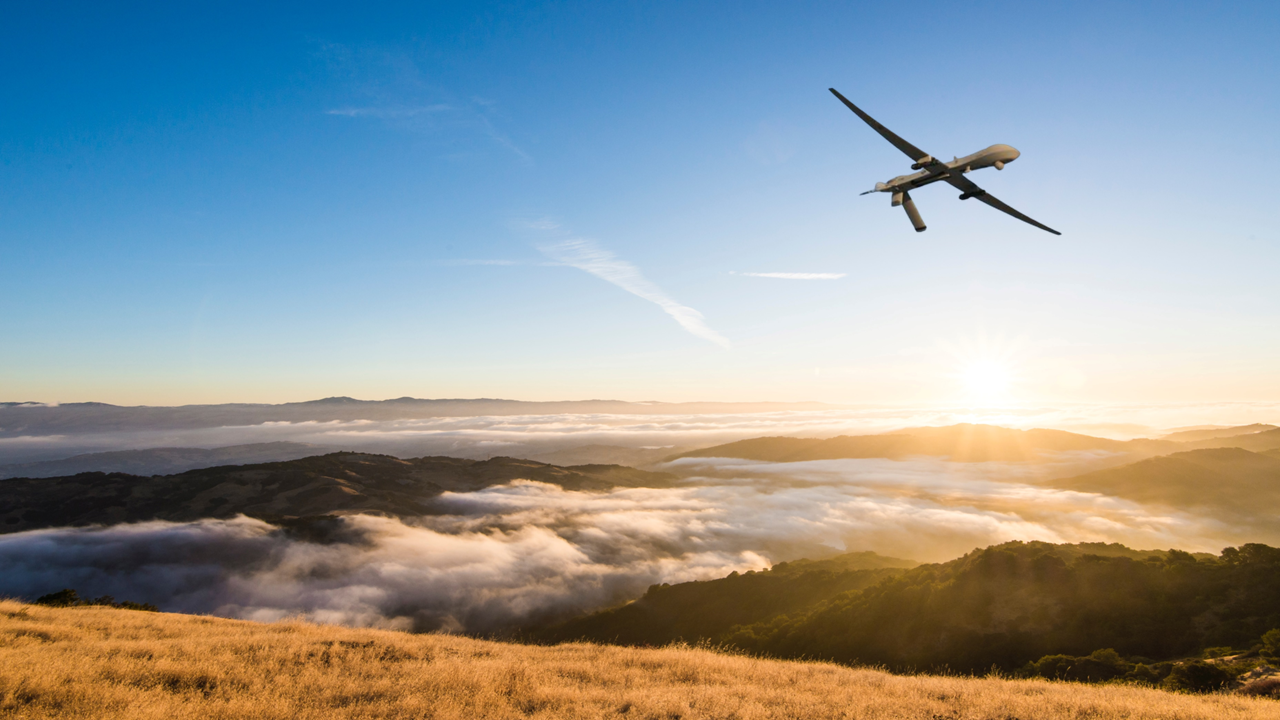military drone: (828, 87, 1062, 236)
